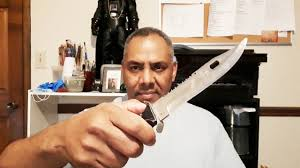knife: (108, 34, 250, 142)
